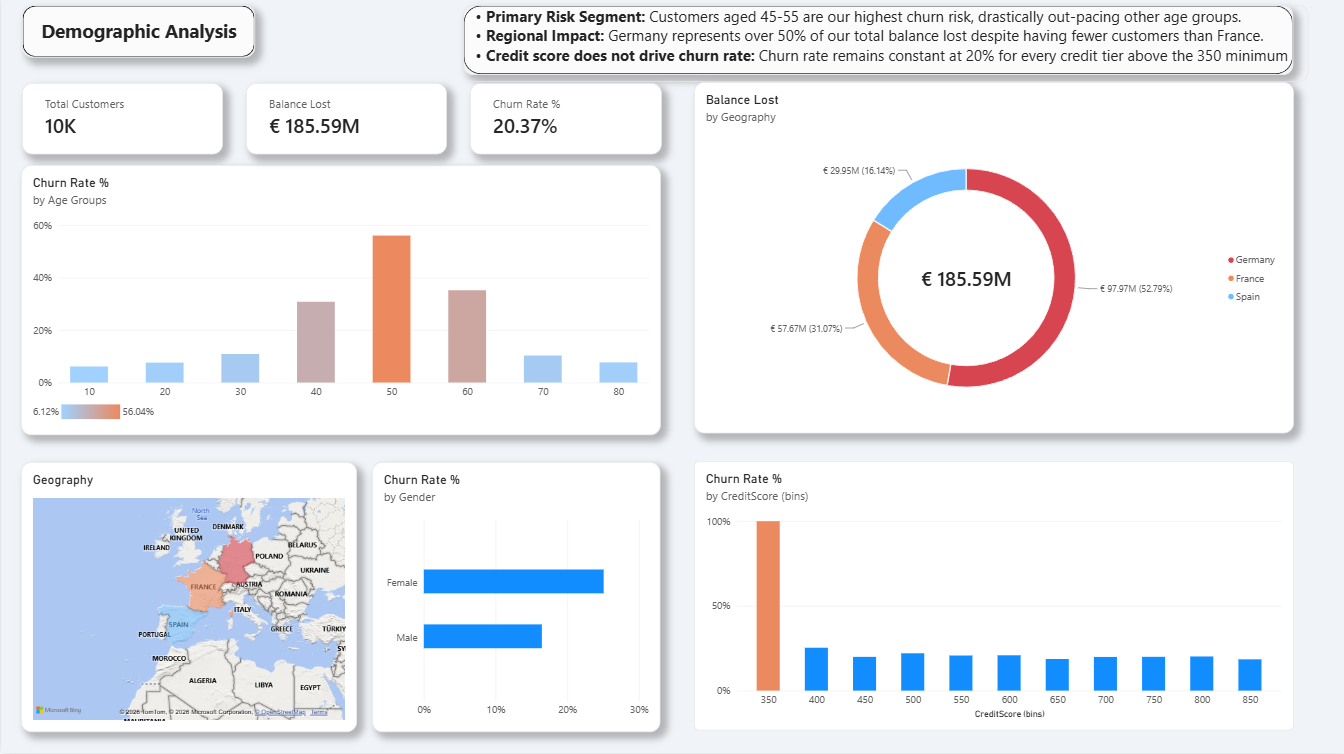

Layout of this report page (visuals, bound fields, positions):
{"tool":"powerbi","page":{"name":"Demographic Analysis","canvas":[1920,1080],"ordinal":1},"visuals":[{"type":"shape","box":[659.9,10.8,1186.4,99.7],"z":0},{"type":"group","id":"g1","title":"Group 2","box":[28.3,122.2,915,926.7],"z":0,"group":"g2"},{"type":"cardVisual","fields":{"Data":["_Key Measures.Total Customers"]},"box":[29.6,122.2,287.2,102.5],"z":0,"group":"g1"},{"type":"shape","box":[30,11.7,333.3,75],"z":1000},{"type":"cardVisual","fields":{"Data":["_Key Measures.Churn Rate %"]},"box":[669.2,122.2,274.1,102.5],"z":1000,"group":"g1"},{"type":"textbox","box":[48.3,30,296.7,58.3],"z":2000},{"type":"columnChart","fields":{"Category":["Customer_Info.Age Groups"],"Y":["_Key Measures.Churn Rate %"]},"box":[28.3,238.7,913.7,385.8],"z":2000,"group":"g1"},{"type":"clusteredBarChart","fields":{"Category":["Customer_Info.Gender"],"Y":["_Key Measures.Churn Rate %"]},"box":[529.5,663.1,412.5,385.8],"z":3000,"group":"g1"},{"type":"clusteredColumnChart","fields":{"Category":["Customer_Info.CreditScore (bins)"],"Y":["_Key Measures.Churn Rate %"]},"box":[990,663.3,856.7,385],"z":3000},{"type":"donutChart","fields":{"Category":["Customer_Info.Geography"],"Y":["_Key Measures.Balance Lost"]},"box":[990,121.7,856.7,501.7],"z":4000},{"type":"filledMap","fields":{"Category":["Customer_Info.Geography"]},"box":[28.3,663.1,480.3,385.8],"z":4000,"group":"g1"},{"type":"group","id":"g2","title":"Group 1","box":[28.3,122.2,915,926.7],"z":5000},{"type":"cardVisual","fields":{"Data":["_Key Measures.Balance Lost"]},"box":[349.4,122.2,287.2,102.5],"z":5000,"group":"g1"},{"type":"textbox","box":[660,11.7,1208.3,110],"z":6000}]}

Visuals, with their boxes in screenshot pixels (x1, y1, x2, y2), scaled from the page's 1920x1080 canvas onto the 1344x754 screenshot:
shape: l=462, t=8, r=1292, b=77
"Group 2" group: l=20, t=85, r=660, b=732
cardVisual - _Key Measures.Total Customers: l=21, t=85, r=222, b=157
shape: l=21, t=8, r=254, b=61
cardVisual - _Key Measures.Churn Rate %: l=468, t=85, r=660, b=157
textbox: l=34, t=21, r=241, b=62
columnChart - Customer_Info.Age Groups x _Key Measures.Churn Rate %: l=20, t=167, r=659, b=436
clusteredBarChart - Customer_Info.Gender x _Key Measures.Churn Rate %: l=371, t=463, r=659, b=732
clusteredColumnChart - Customer_Info.CreditScore (bins) x _Key Measures.Churn Rate %: l=693, t=463, r=1293, b=732
donutChart - Customer_Info.Geography x _Key Measures.Balance Lost: l=693, t=85, r=1293, b=435
filledMap - Customer_Info.Geography: l=20, t=463, r=356, b=732
"Group 1" group: l=20, t=85, r=660, b=732
cardVisual - _Key Measures.Balance Lost: l=245, t=85, r=446, b=157
textbox: l=462, t=8, r=1308, b=85
